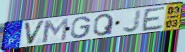E: (141, 5, 167, 33)
G: (70, 16, 93, 40)
J: (122, 9, 143, 33)
M: (42, 17, 70, 44)
Q: (93, 13, 115, 37)
V: (22, 20, 46, 46)
